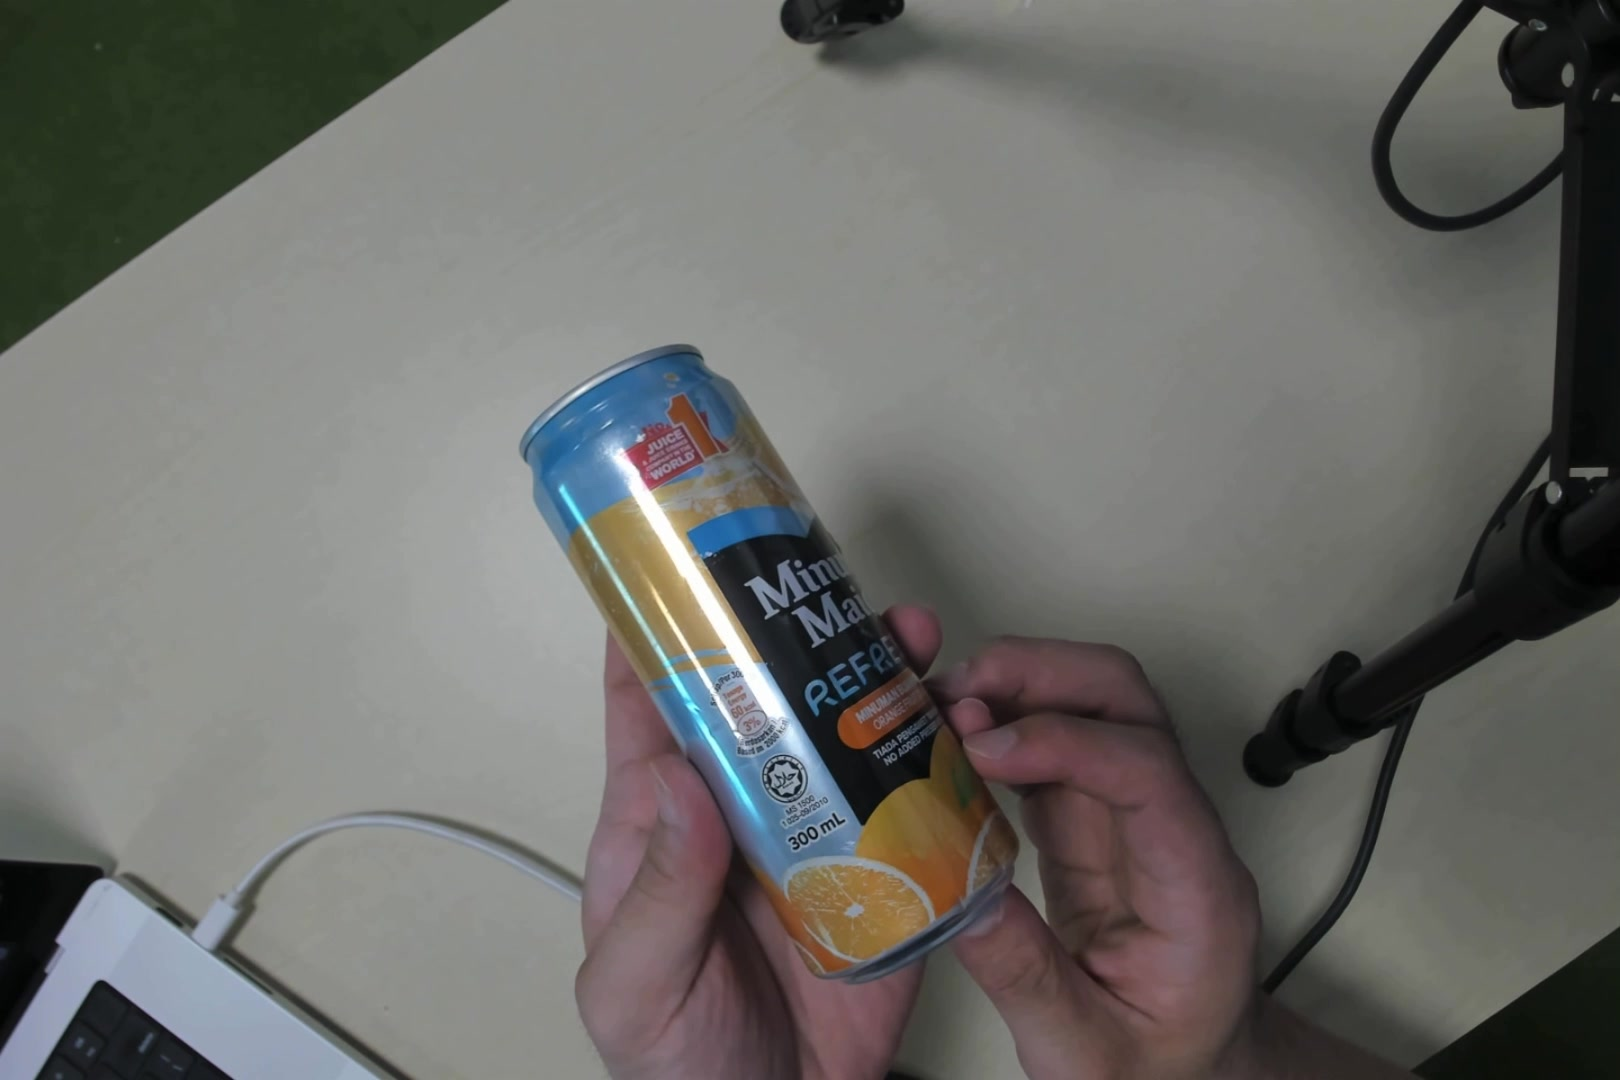SoftDrinks_200-299g_Halal_Healthy: (573, 363, 974, 946)
